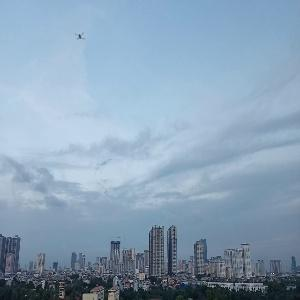drone: (64, 19, 99, 54)
